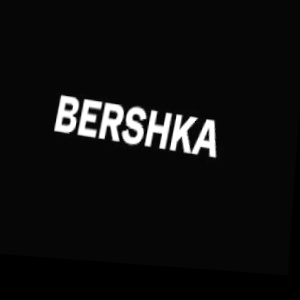bershka: (188, 44, 270, 152)
